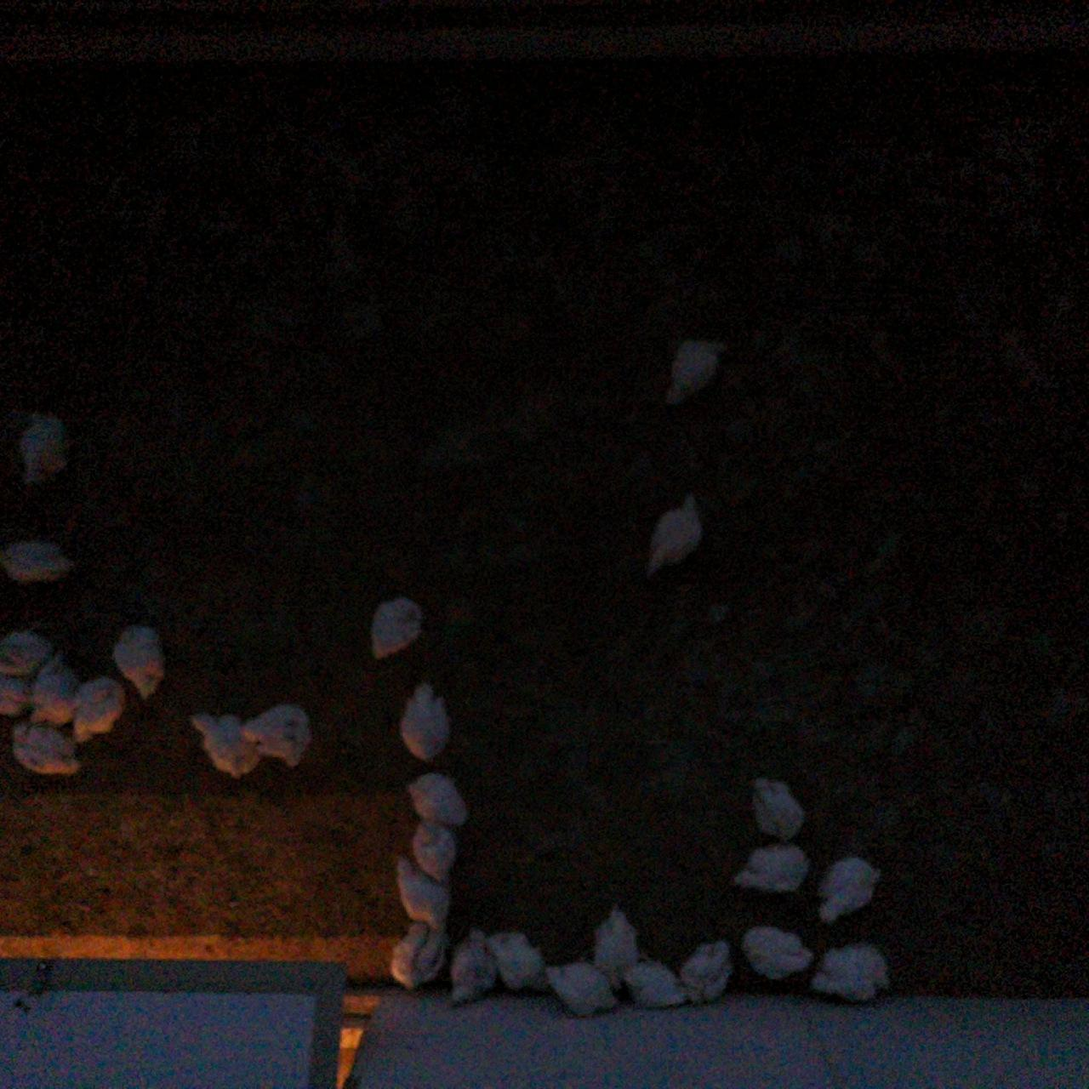chicken: (544, 951, 616, 1022), (194, 708, 258, 786), (816, 855, 885, 925), (395, 855, 460, 927), (733, 841, 815, 898), (814, 943, 892, 1002), (739, 921, 818, 977), (245, 701, 315, 764), (669, 935, 735, 1001), (402, 679, 454, 760), (647, 496, 702, 572), (489, 928, 554, 991), (448, 927, 496, 1012), (115, 622, 170, 696), (23, 408, 75, 484), (408, 769, 472, 830), (386, 922, 446, 987), (623, 955, 689, 1014), (0, 535, 77, 585), (74, 676, 129, 745), (33, 651, 82, 726), (751, 775, 806, 840), (14, 724, 81, 777), (595, 905, 638, 984), (373, 598, 426, 661), (414, 817, 461, 887), (0, 618, 53, 675), (0, 668, 43, 722)
